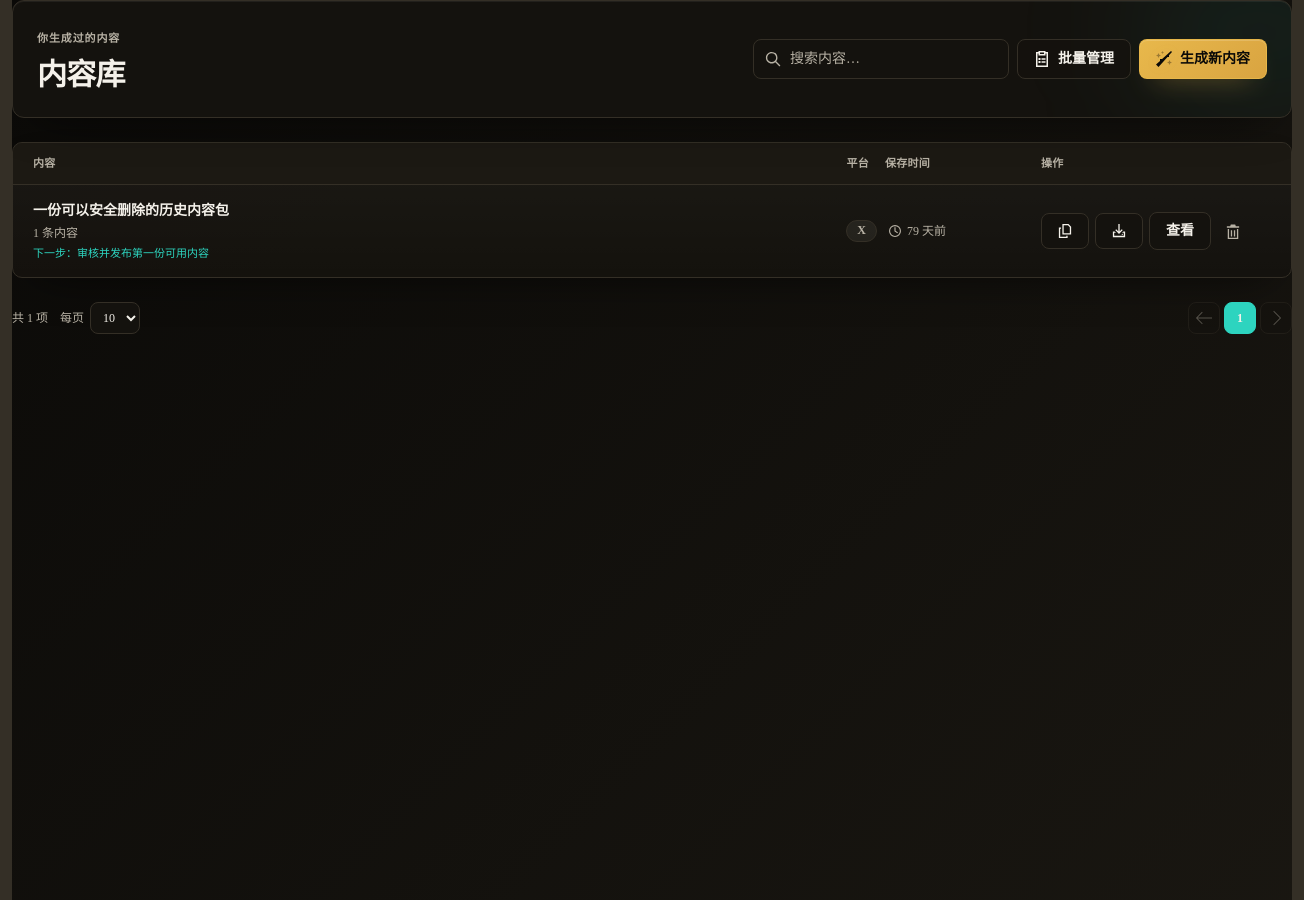
Test: Content Library deletion › requires confirmation and removes a kit only after the API succeeds
Expected: the text "一份可以安全删除的历史内容包" is shown, [33,200,229,220]
Click the button named "删除: 一份可以安全删除".
click(1233, 231)  # box [1217,210,1249,252]
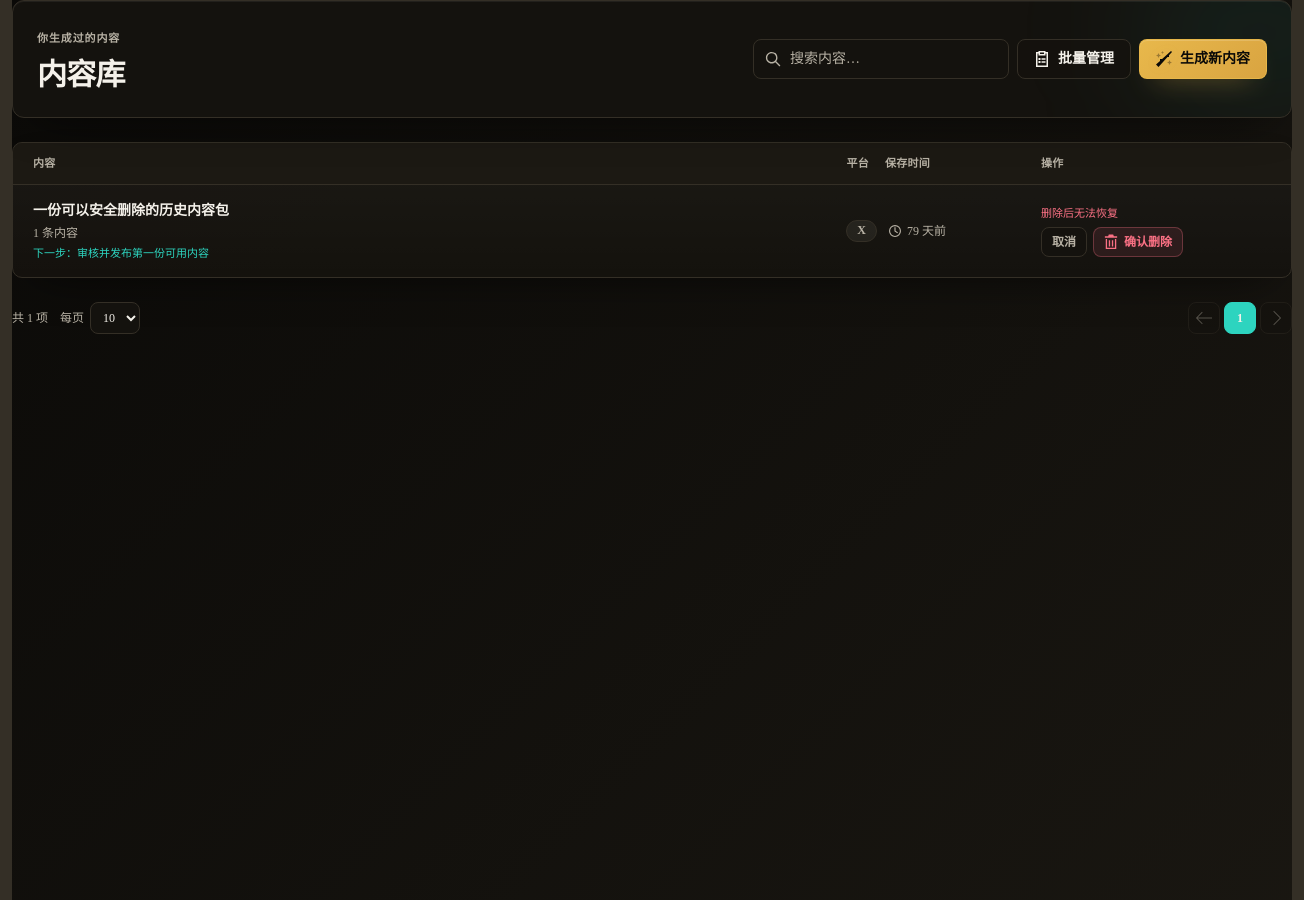
Expected: the text "一份可以安全删除的历史内容包" is shown, [33,200,229,220]
Expected: the text "删除后无法恢复" is shown, [1041,206,1118,218]
Click the button "确认删除".
click(1138, 242)  # box [1093,227,1183,257]
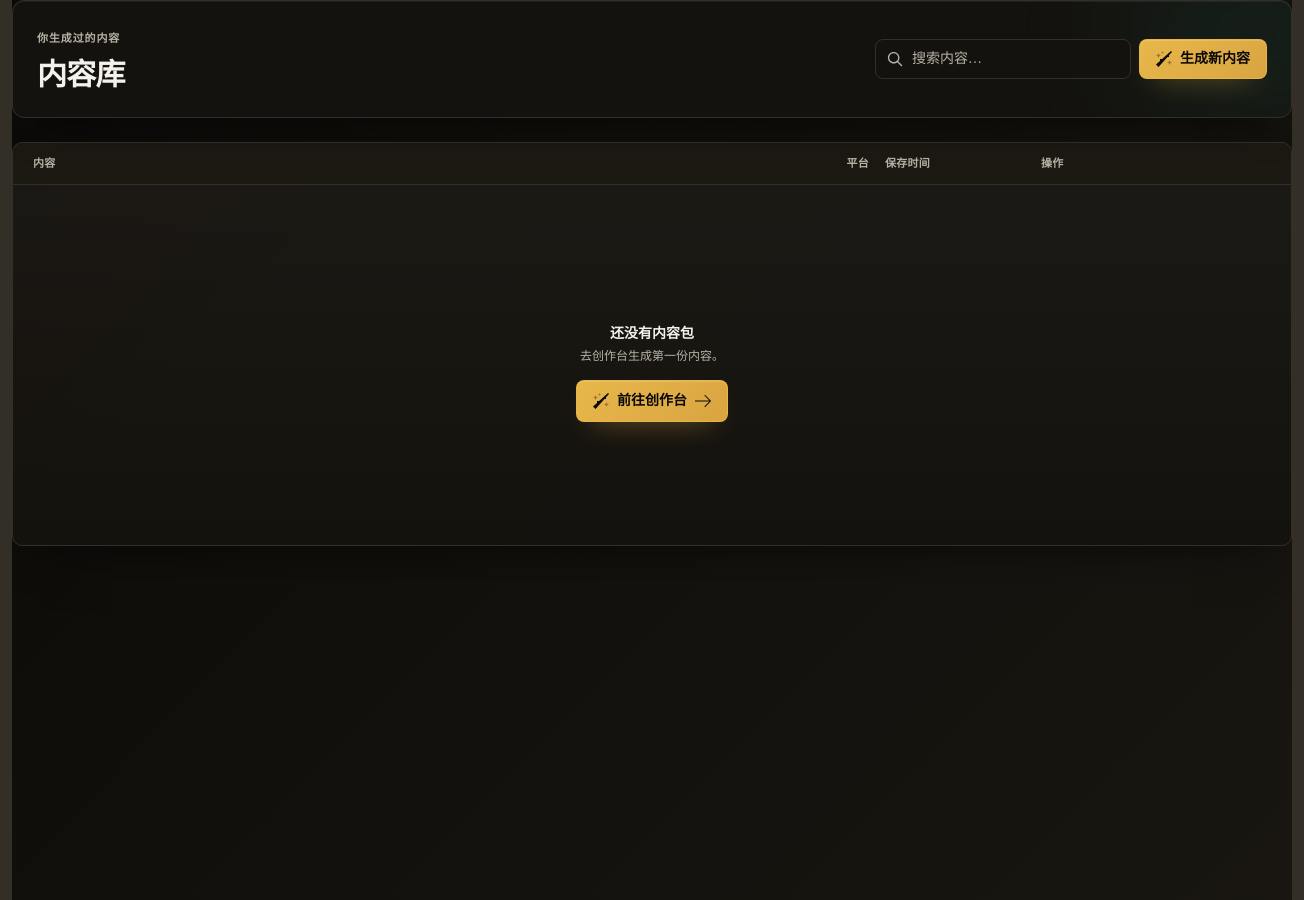
Expected: the text "一份可以安全删除的历史内容包" is gone
Expected: the text "还没有内容包" is shown, [610,326,694,340]
